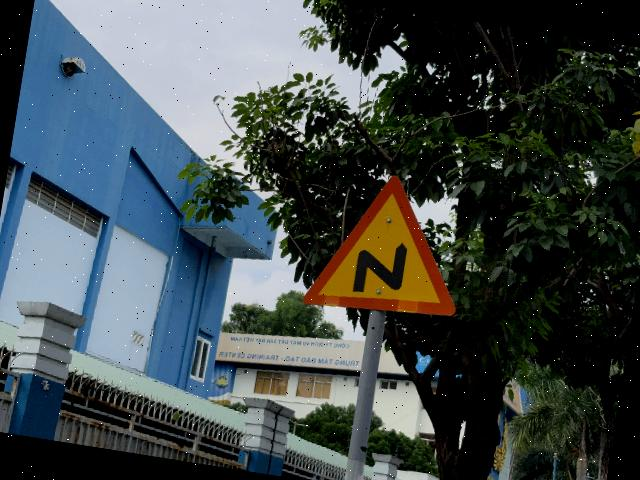nhieu-cho-ngoat-nguy-hiem-lien-tiep: (301, 164, 475, 328)
